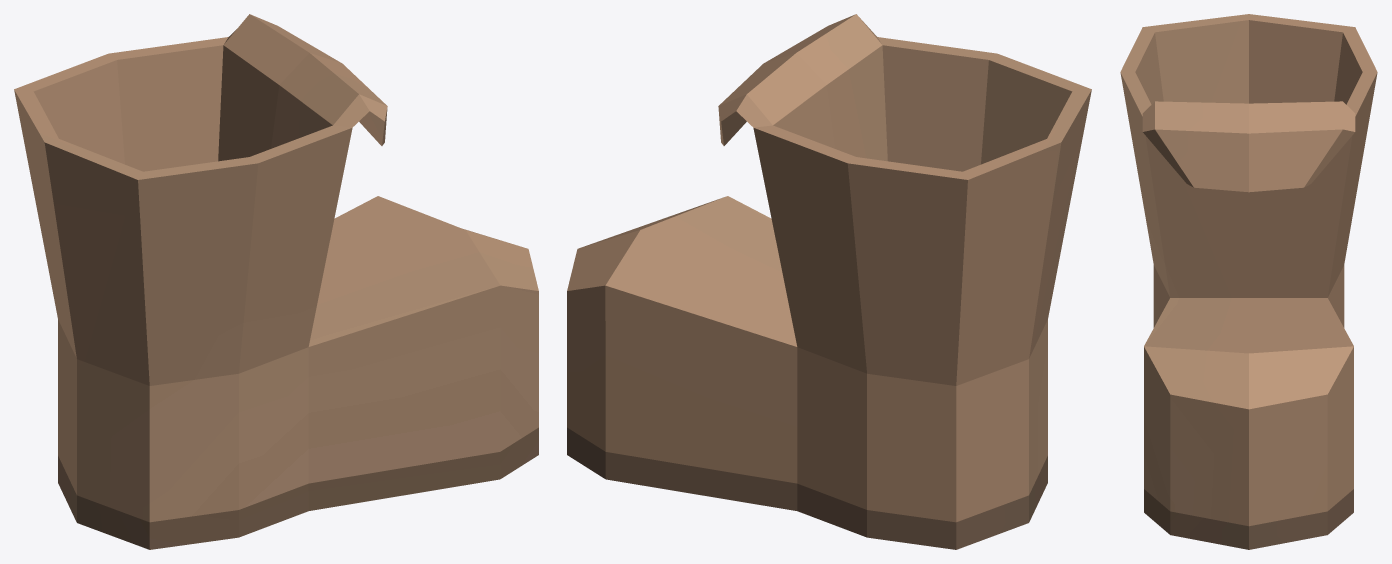
The model's file is Boots_Poly_by_Google_7HbqG8.glb.
3 views of the same model, side by side, from view 1: azimuth 30°, elevation 25°; view 2: azimuth 150°, elevation 25°; view 3: azimuth 270°, elevation 25° (orthographic). The views are drawn at different scales.
Parts seen in each view (by area): view 1: Cube.010_Cube.012; view 2: Cube.010_Cube.012; view 3: Cube.010_Cube.012.
Part boxes in pixels (x1,y1,x2,y2): Cube.010_Cube.012: (14, 14, 538, 549); Cube.010_Cube.012: (567, 14, 1091, 549); Cube.010_Cube.012: (1120, 14, 1377, 549).
Size of the model in its own units: 0.3676 by 0.3 by 0.1972.
Materials: 1 (1 with a texture image).
